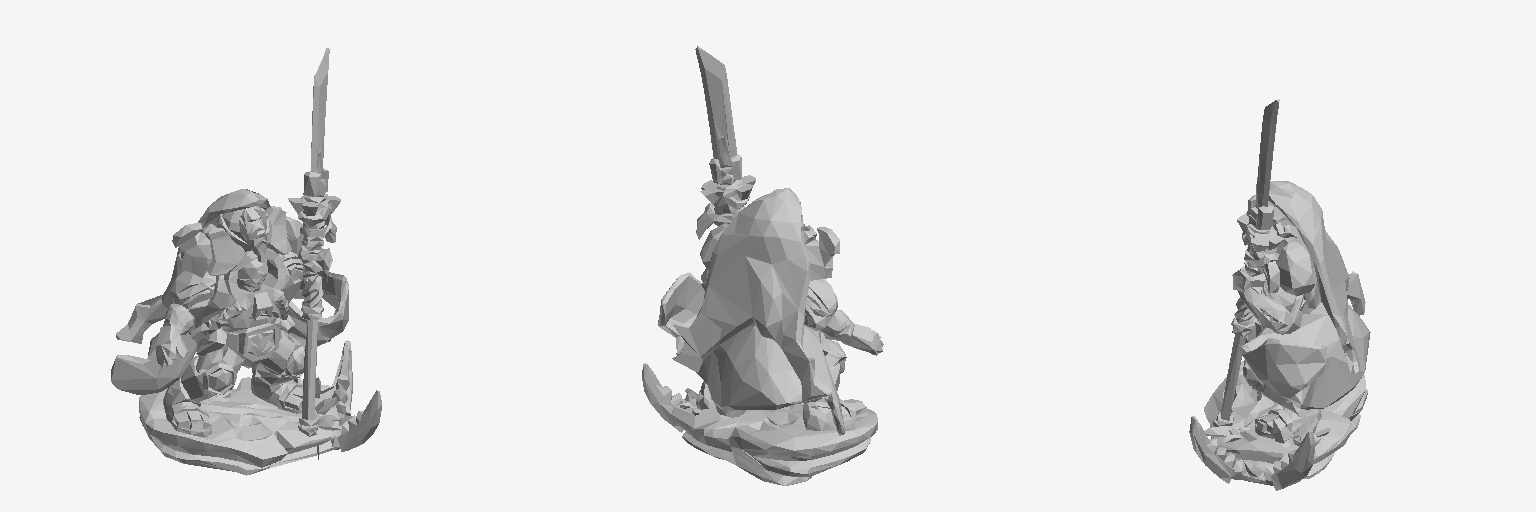
File: BuriLowPoly.obj
3 views of the same model, side by side, from view 1: azimuth 30°, elevation 25°; view 2: azimuth 150°, elevation 25°; view 3: azimuth 270°, elevation 25° (orthographic).
Parts seen in each view (by area): view 1: texture_pbr_v128.012; view 2: texture_pbr_v128.012; view 3: texture_pbr_v128.012.
Part boxes in pixels (x1,y1,x2,y2): texture_pbr_v128.012: (111,48,381,475); texture_pbr_v128.012: (642,46,883,485); texture_pbr_v128.012: (1189,99,1370,490).
Bounding box in the file's own units: 0.6524 × 1.07 × 0.4614.